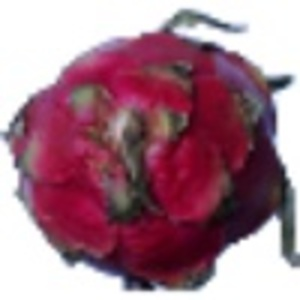pitaia: (1, 7, 300, 294)
